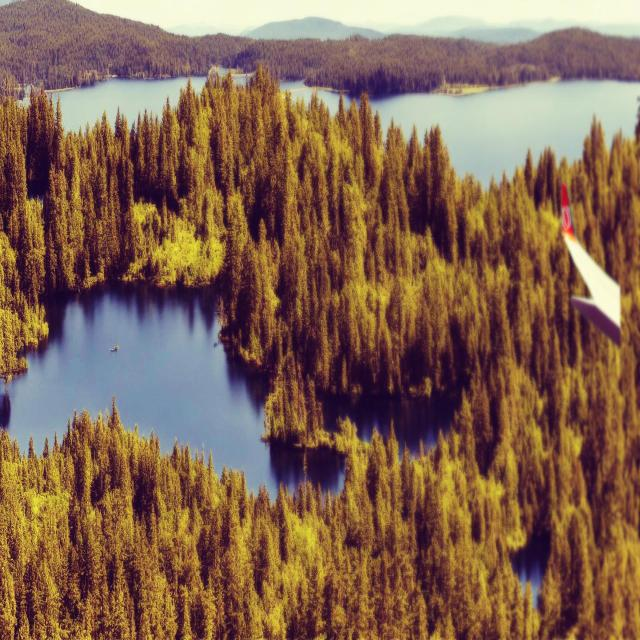airplane: (560, 181, 621, 347)
